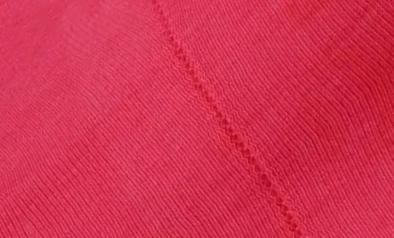slub: (153, 0, 306, 238)
